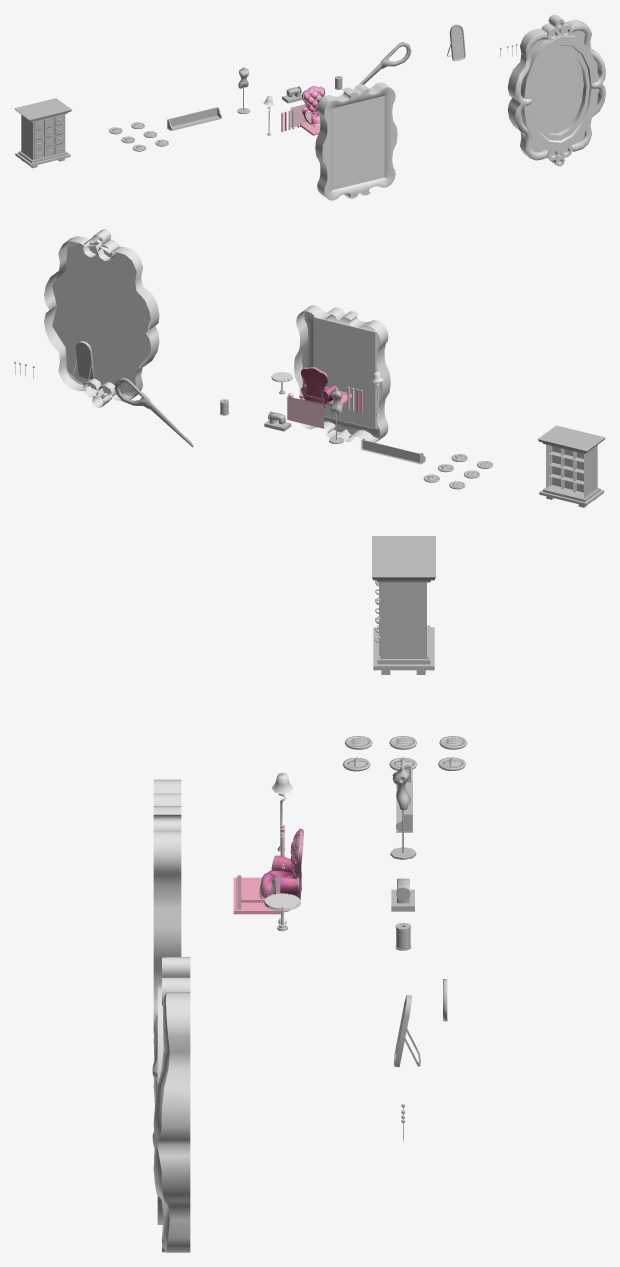
The model's file is prop.fbx.
3 views of the same model, one above another, from view 1: azimuth 30°, elevation 25°; view 2: azimuth 150°, elevation 25°; view 3: azimuth 270°, elevation 25° (orthographic). The views are drawn at different scales.
Visible parts, largest first — view 1: Frame_2, Frame_1, surap, bookshelves, chair, mirror, sissor, backboard001, toruso; view 2: Frame_2, Frame_1, surap, chair, backboard001, sissor, bookshelves, mirror; view 3: Frame_2, surap, Frame_1, chair, table.
Boxes of the visible parts, box(x1,y1,x2,y2) form: Frame_2: box(507, 14, 605, 166); Frame_1: box(315, 82, 397, 200); surap: box(14, 98, 71, 168); bookshelves: box(167, 107, 222, 130); chair: box(302, 86, 325, 127); mirror: box(447, 24, 465, 60); sissor: box(359, 42, 411, 84); backboard001: box(290, 104, 307, 127); toruso: box(237, 67, 249, 113); Frame_2: box(44, 229, 159, 407); Frame_1: box(294, 305, 390, 442); surap: box(537, 425, 605, 507); chair: box(301, 367, 338, 407); backboard001: box(287, 396, 323, 428); sissor: box(114, 377, 193, 447); bookshelves: box(360, 438, 425, 464); mirror: box(72, 341, 94, 382); Frame_2: box(152, 957, 190, 1252); surap: box(372, 536, 435, 674); Frame_1: box(153, 779, 181, 1034); chair: box(259, 828, 303, 904); table: box(233, 877, 284, 914).
Size of the model in its own units: 6744 by 1811 by 1755.
